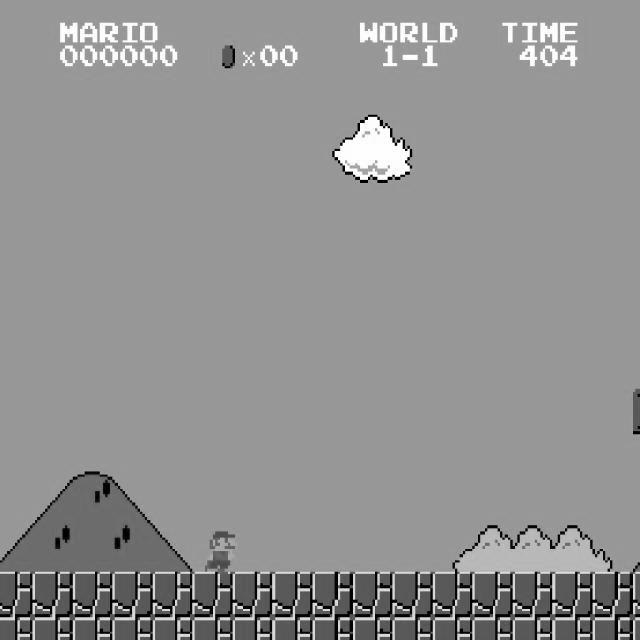11- little_mario: (197, 526, 240, 574)
13- mystery_block: (633, 388, 640, 434)
17- undestructible_block: (32, 572, 73, 618), (72, 572, 113, 618), (112, 572, 153, 618), (152, 572, 193, 618), (192, 572, 233, 618), (232, 572, 273, 618), (272, 572, 313, 618), (312, 572, 353, 618), (352, 572, 393, 618), (392, 572, 433, 618), (432, 572, 473, 618), (472, 572, 513, 618), (512, 572, 553, 618), (552, 572, 593, 618), (592, 572, 633, 618), (0, 571, 32, 617), (32, 617, 73, 640), (72, 617, 113, 640), (112, 617, 153, 640), (152, 617, 193, 640), (192, 617, 233, 640), (232, 617, 273, 640), (272, 617, 313, 640), (312, 617, 353, 640), (352, 617, 393, 640), (392, 617, 433, 640), (432, 617, 473, 640), (472, 617, 513, 640), (512, 617, 553, 640), (552, 617, 593, 640), (592, 617, 633, 640), (0, 617, 32, 639), (633, 572, 640, 618), (633, 617, 640, 640)
